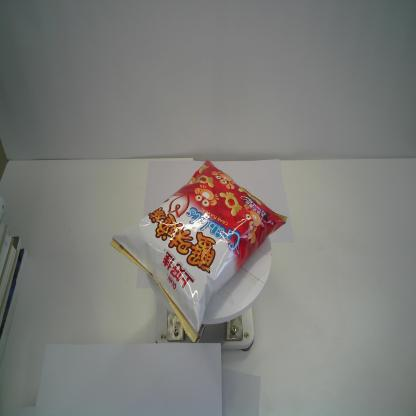Puffed Food: (109, 158, 287, 344)
